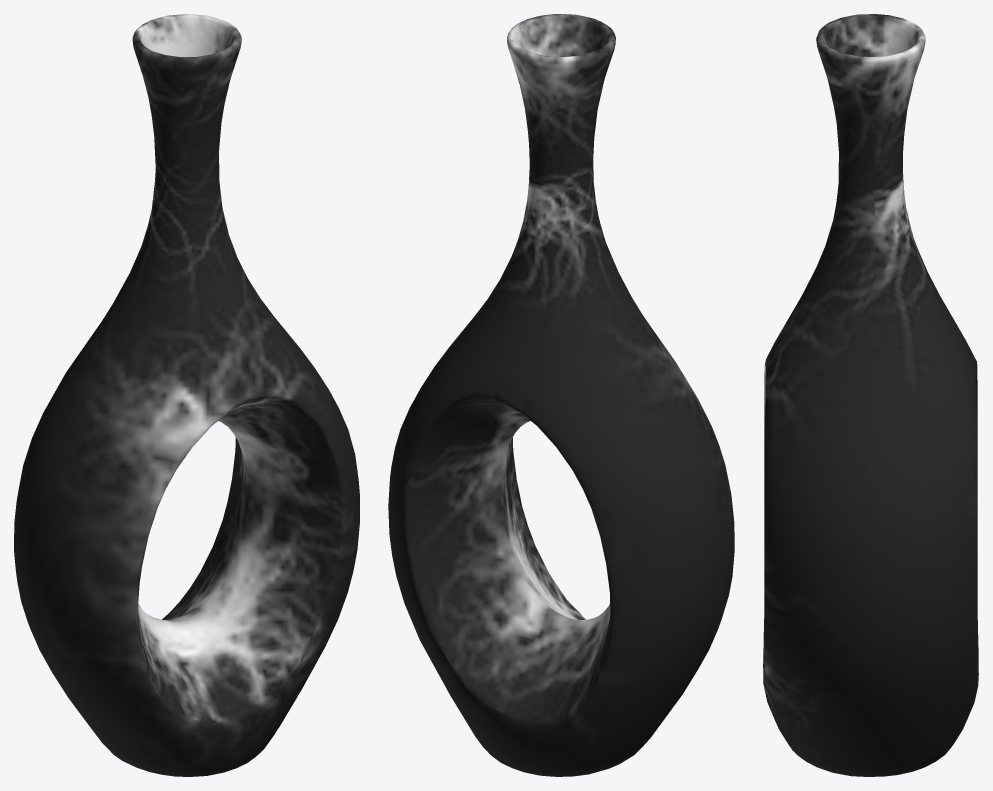
File: st_vase_4.gltf
3 views of the same model, side by side, from view 1: azimuth 30°, elevation 25°; view 2: azimuth 150°, elevation 25°; view 3: azimuth 270°, elevation 25° (orthographic).
Visible parts, largest first — view 1: Vase 4; view 2: Vase 4; view 3: Vase 4.
Boxes of the visible parts, <box> form: Vase 4: <box>14,14,359,776</box>; Vase 4: <box>388,14,734,776</box>; Vase 4: <box>763,14,978,776</box>.
Bounding box in the file's own units: 0.1395 × 0.3025 × 0.0831.
Materials: 1 (1 with a texture image).
